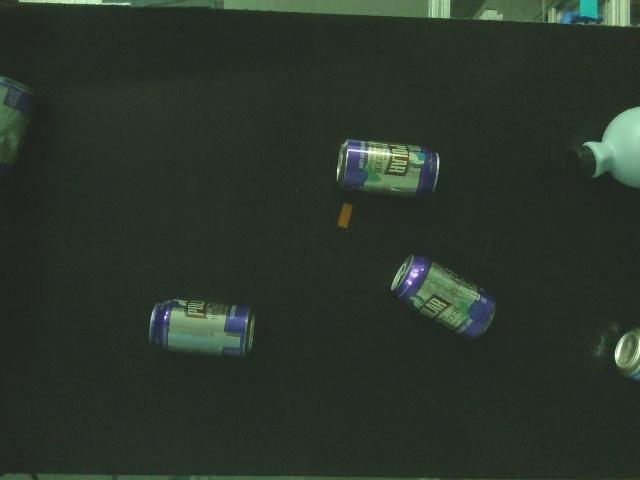metal: (388, 250, 500, 342), (147, 292, 259, 364), (334, 136, 442, 203), (0, 75, 43, 186), (610, 328, 640, 390)
plastic: (565, 102, 640, 200), (335, 201, 354, 231)
